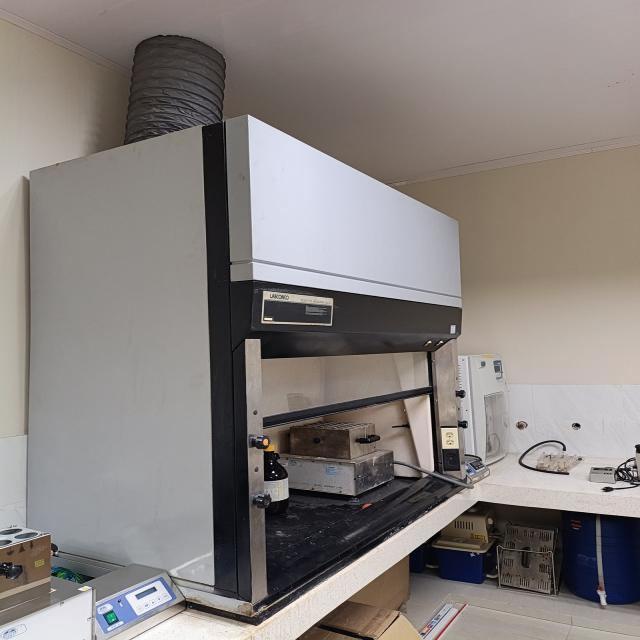Campana de Extraccion de Gases de Laboratorio: (27, 116, 466, 620)
